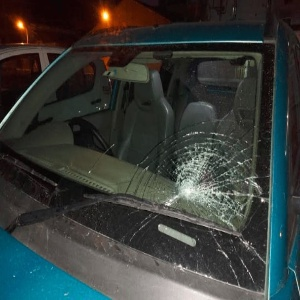bumper: (110, 163, 299, 286)
